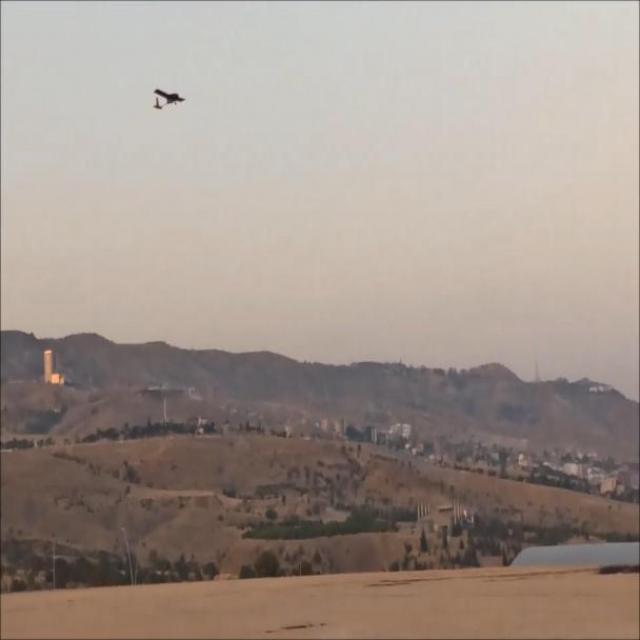iha: (149, 16, 185, 48)
